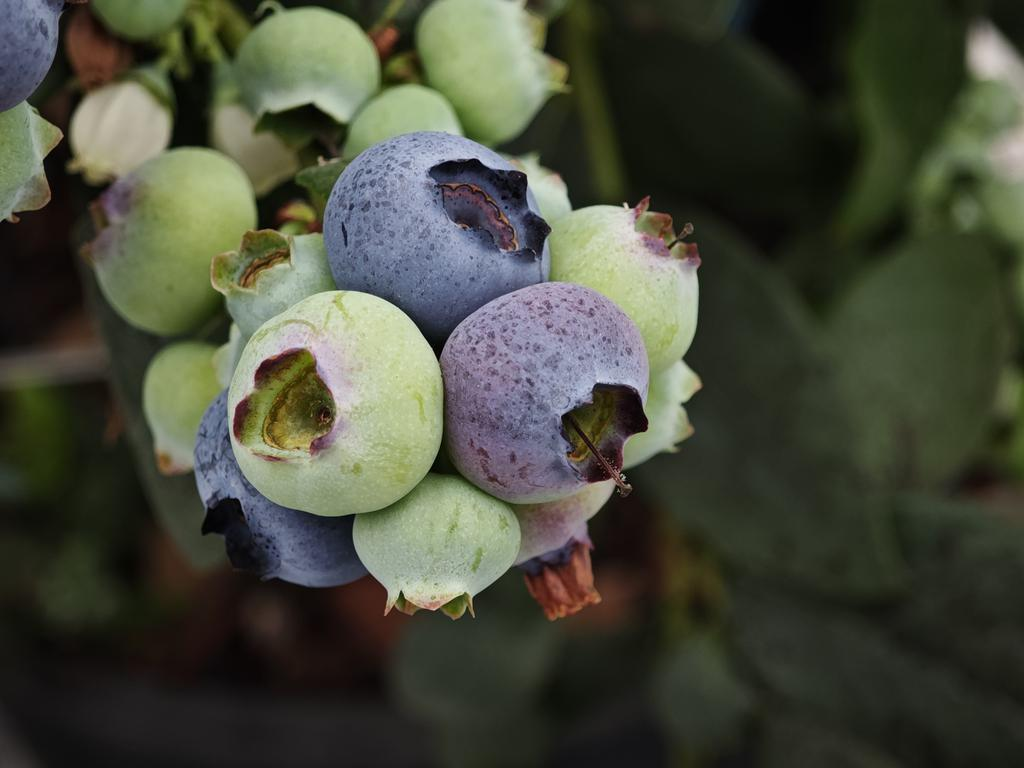RipeBlueBerry: (327, 130, 544, 304)
Semi-RipeBlueBerry: (447, 283, 650, 498)
UnripeBlueBerry: (234, 289, 441, 519)
